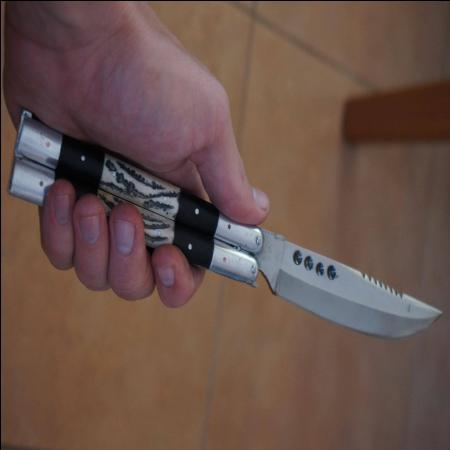long weapon: (104, 116, 445, 342)
